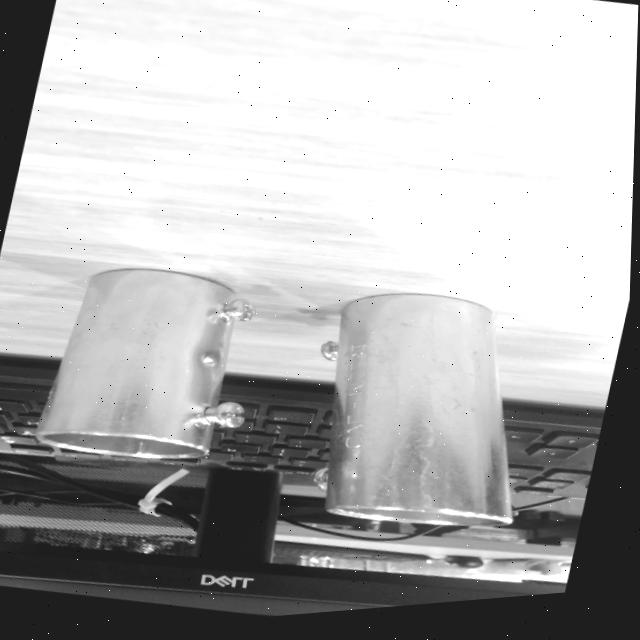Co_Lon: (307, 291, 510, 532)
Co_Nho: (34, 258, 258, 467)
